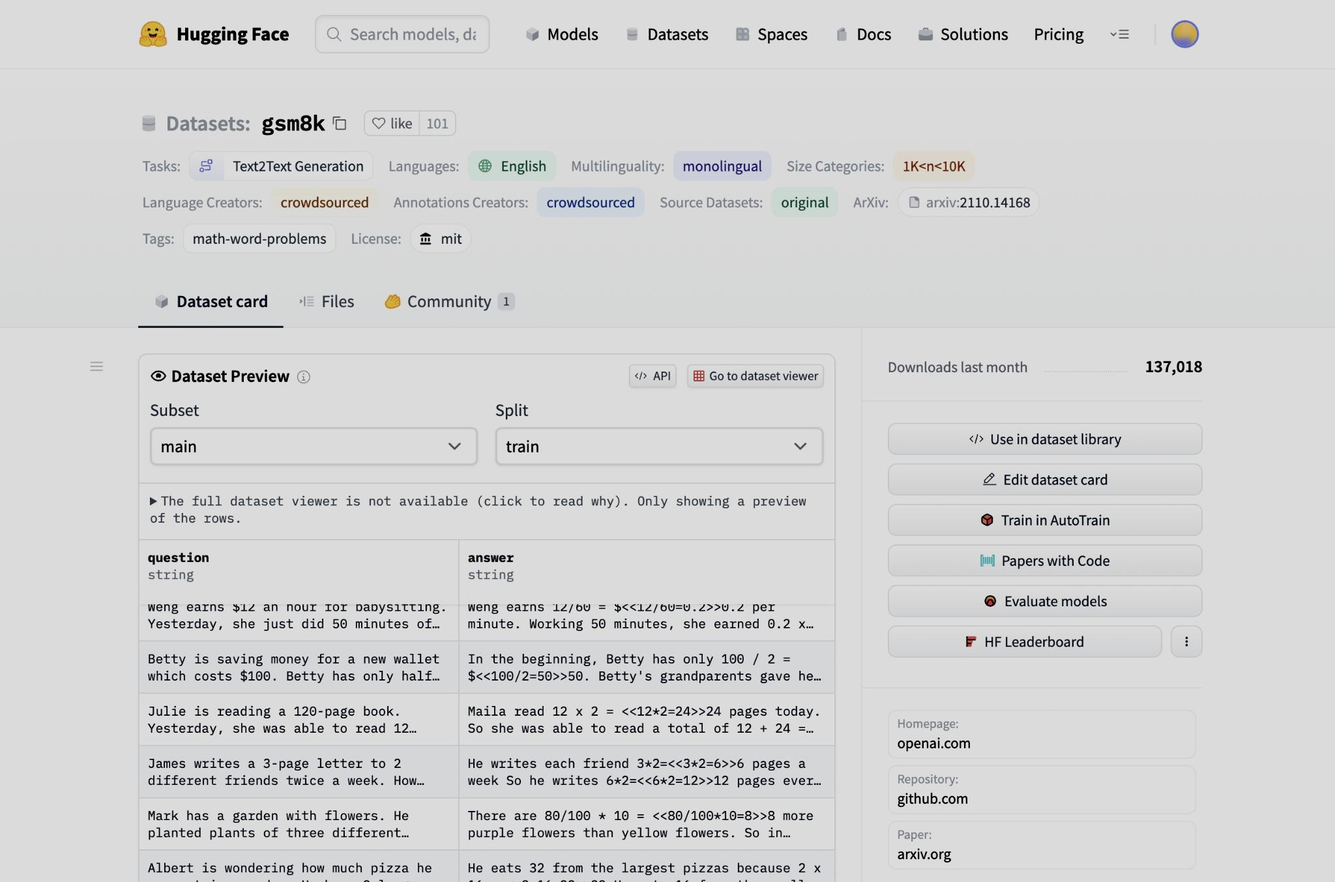webelement: (514, 19, 1196, 48), (887, 765, 1195, 814), (887, 821, 1195, 870), (887, 710, 1195, 758), (887, 463, 1201, 495), (887, 544, 1201, 576), (887, 585, 1201, 617), (887, 625, 1161, 657), (368, 276, 529, 327), (138, 276, 283, 327), (282, 276, 368, 327), (897, 187, 1039, 216), (389, 188, 532, 215), (138, 188, 265, 215), (176, 19, 289, 48), (686, 364, 822, 387), (223, 155, 371, 176), (654, 188, 766, 215), (183, 228, 332, 248), (615, 19, 716, 48), (781, 152, 888, 179), (565, 152, 668, 179), (514, 19, 606, 48), (725, 19, 815, 48), (165, 107, 249, 137), (271, 191, 377, 212), (536, 191, 642, 212), (824, 19, 900, 48), (383, 152, 462, 179), (674, 155, 770, 176), (1024, 19, 1092, 48), (409, 223, 470, 253), (950, 191, 1037, 212), (261, 108, 325, 136), (894, 155, 973, 176), (345, 224, 404, 252), (772, 191, 837, 212), (491, 155, 553, 176), (138, 152, 184, 179), (848, 188, 892, 215), (138, 224, 178, 252), (150, 400, 198, 420), (917, 191, 959, 212), (321, 288, 353, 314), (147, 566, 193, 583), (467, 566, 512, 583), (432, 228, 469, 248), (494, 400, 527, 420), (388, 115, 412, 129)
